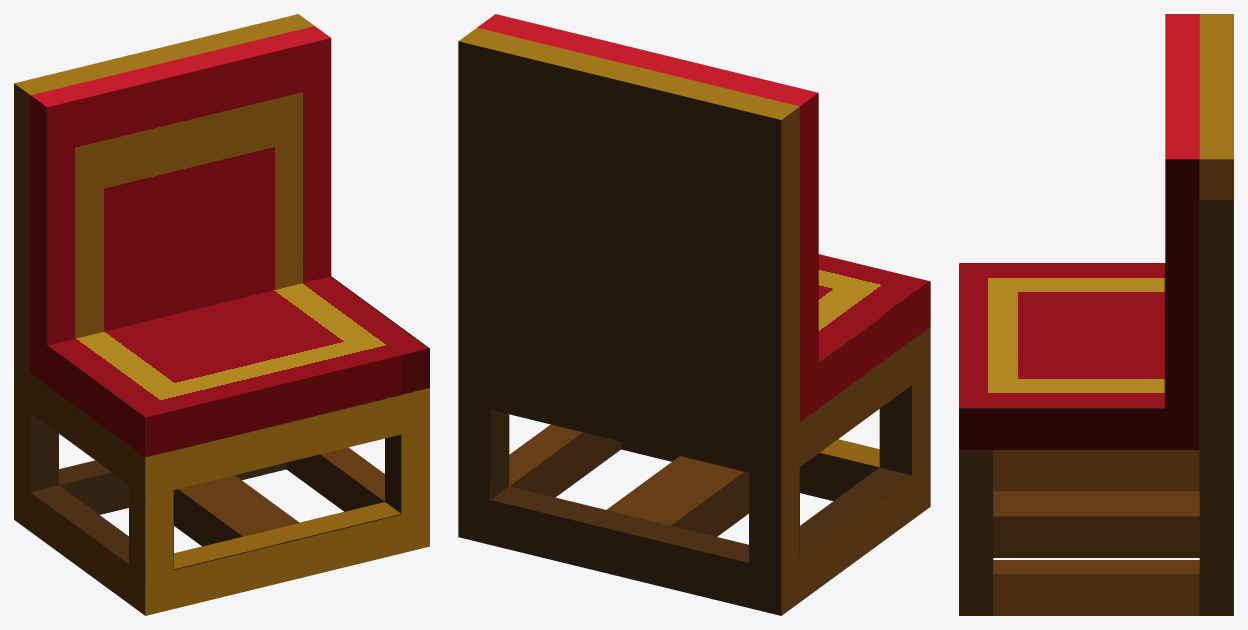
Rendered from chair_369_06.obj.
3 renders of one model, left to right at view 1: azimuth 30°, elevation 25°; view 2: azimuth 150°, elevation 25°; view 3: azimuth 270°, elevation 25°, orthographic. The views are drawn at different scales.
Parts seen in each view (by area): view 1: Chair; view 2: Chair; view 3: Chair.
Boxes of the visible parts, x1,y1,x2,y2 form: Chair: [14, 14, 429, 615]; Chair: [458, 14, 930, 615]; Chair: [959, 14, 1233, 615].
Bounding box in the file's own units: 1.25 × 1.83 × 1.
